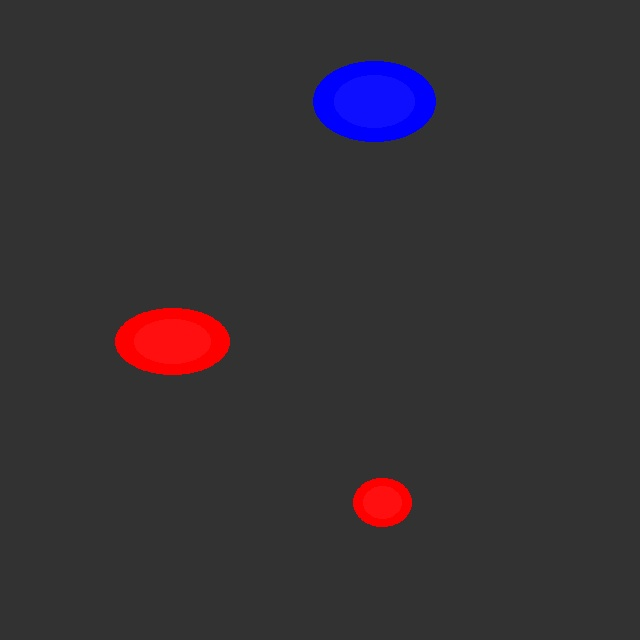fish: (313, 61, 435, 141), (115, 308, 229, 375), (352, 478, 412, 526)
